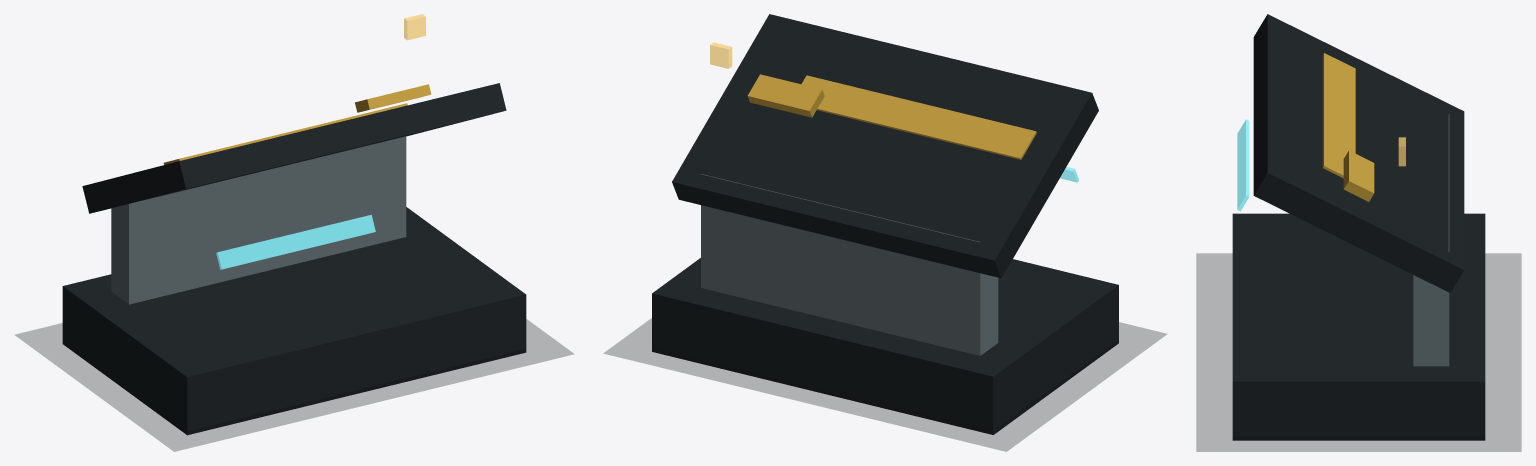
The model's file is hp_room_rm_maint_weapon_cradle.glb.
3 views of the same model, side by side, from view 1: azimuth 30°, elevation 25°; view 2: azimuth 150°, elevation 25°; view 3: azimuth 270°, elevation 25° (orthographic).
Parts seen in each view (by area): view 1: base_plinth, rack_legs, rack_slope, contact_shadow, label_strip, pistol_mold_slide, rod_mold; view 2: rack_slope, base_plinth, rack_legs, contact_shadow, rod_mold, pistol_mold_slide; view 3: base_plinth, rack_slope, contact_shadow, rod_mold, rack_legs, pistol_mold_slide, label_strip.
Part boxes in pixels (x1,y1,x2,y2): base_plinth: [62, 207, 526, 435]; rack_legs: [111, 136, 406, 304]; rack_slope: [82, 83, 506, 213]; contact_shadow: [15, 319, 573, 451]; label_strip: [216, 214, 375, 269]; pistol_mold_slide: [355, 84, 431, 112]; rod_mold: [163, 103, 407, 164]; rack_slope: [672, 14, 1098, 278]; base_plinth: [652, 258, 1118, 434]; rack_legs: [701, 174, 998, 355]; contact_shadow: [604, 318, 1166, 451]; rod_mold: [801, 75, 1036, 159]; pistol_mold_slide: [747, 74, 824, 117]; base_plinth: [1232, 213, 1485, 440]; rack_slope: [1253, 14, 1464, 292]; contact_shadow: [1196, 253, 1521, 451]; rod_mold: [1322, 53, 1355, 178]; rack_legs: [1413, 114, 1449, 366]; pistol_mold_slide: [1343, 150, 1374, 201]; label_strip: [1237, 119, 1249, 211].
Size of the model in its own units: 1.3 by 0.87 by 0.9.
